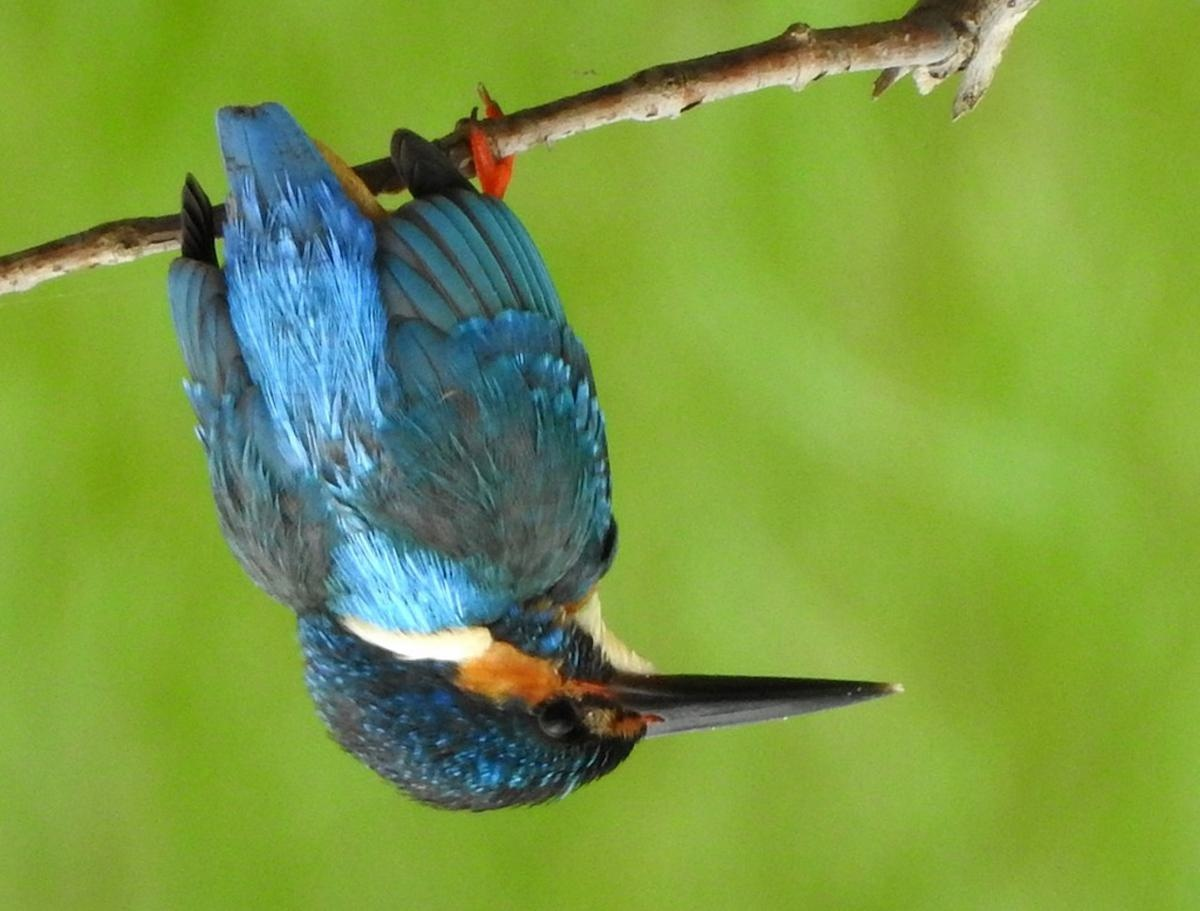kingfisher: (171, 72, 907, 819)
